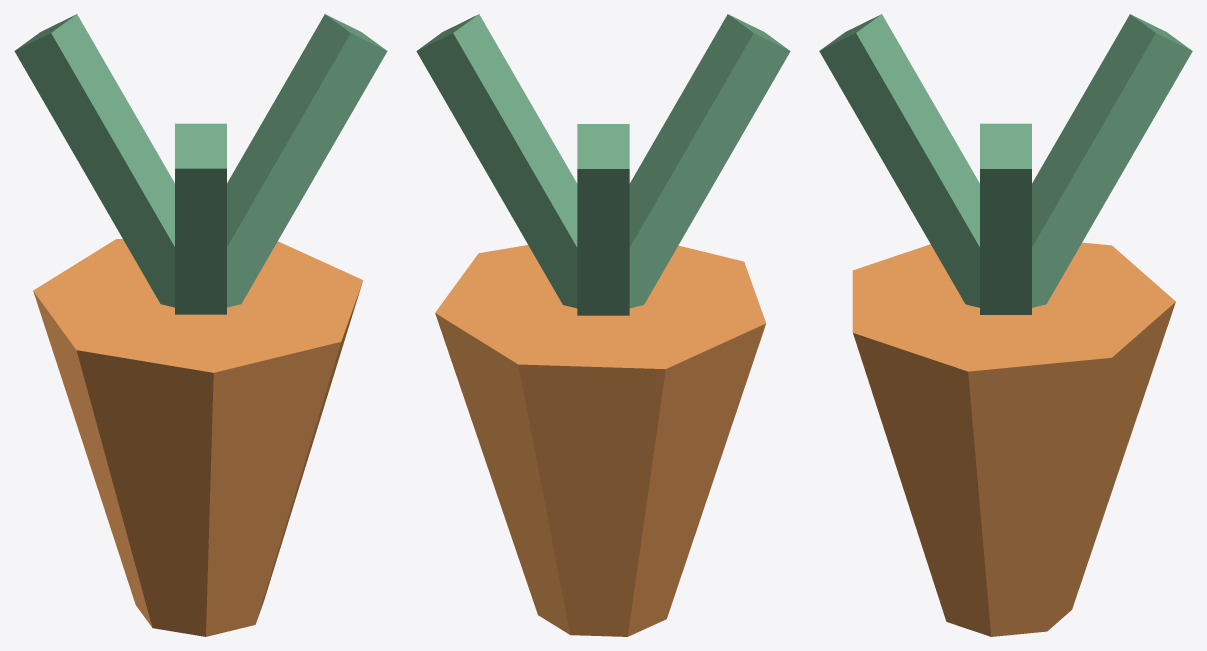
File: crop_carrot.glb
3 renders of one model, left to right at view 1: azimuth 30°, elevation 25°; view 2: azimuth 150°, elevation 25°; view 3: azimuth 270°, elevation 25°, orthographic.
Visible parts, largest first — view 1: orange carrot root.010, three pointed greens.030, three pointed greens.031, three pointed greens.032; view 2: orange carrot root.010, three pointed greens.030, three pointed greens.032, three pointed greens.031; view 3: orange carrot root.010, three pointed greens.031, three pointed greens.032, three pointed greens.030.
Part boxes in pixels (bbox=[...]): orange carrot root.010: bbox=[33, 239, 363, 636]; three pointed greens.030: bbox=[227, 14, 387, 307]; three pointed greens.031: bbox=[14, 14, 174, 307]; three pointed greens.032: bbox=[175, 123, 226, 314]; orange carrot root.010: bbox=[435, 245, 766, 636]; three pointed greens.030: bbox=[416, 14, 577, 308]; three pointed greens.032: bbox=[629, 14, 790, 308]; three pointed greens.031: bbox=[577, 124, 629, 315]; orange carrot root.010: bbox=[852, 242, 1175, 636]; three pointed greens.031: bbox=[1032, 14, 1192, 307]; three pointed greens.032: bbox=[819, 14, 979, 307]; three pointed greens.030: bbox=[980, 123, 1031, 314].
Bounding box in the file's own units: 0.6596 × 1.1 × 0.6724.
